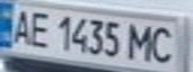1: (51, 12, 75, 52)
3: (84, 16, 106, 56)
4: (66, 15, 90, 54)
5: (103, 18, 127, 58)
A: (6, 6, 36, 46)
C: (148, 22, 184, 65)
E: (24, 8, 54, 48)
M: (127, 20, 160, 62)
